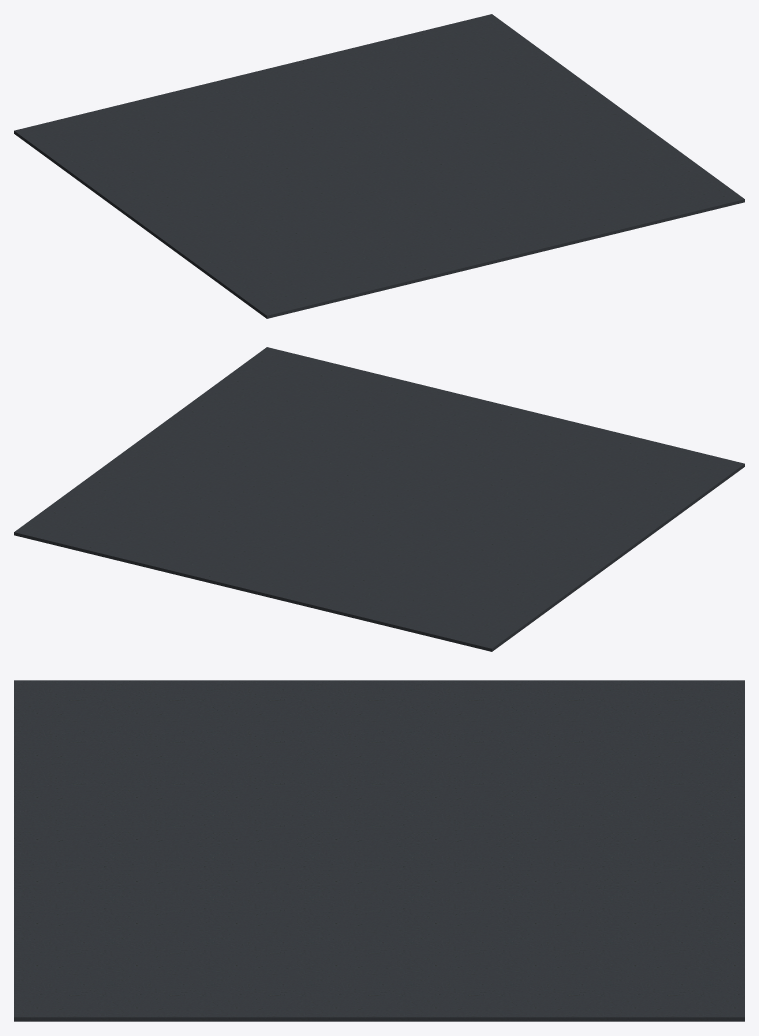
The model's file is ducts.glb.
3 renders of one model, top to bottom at view 1: azimuth 30°, elevation 25°; view 2: azimuth 150°, elevation 25°; view 3: azimuth 270°, elevation 25°, orthographic. The views are drawn at different scales.
Visible parts, largest first — view 1: soffit; view 2: soffit; view 3: soffit.
Part boxes in pixels (x1,y1,x2,y2): soffit: (14,14,744,318); soffit: (14,347,744,651); soffit: (14,680,744,1021).
Size of the model in its own units: 24 by 1.94 by 22.
9 materials, 2 textured.
